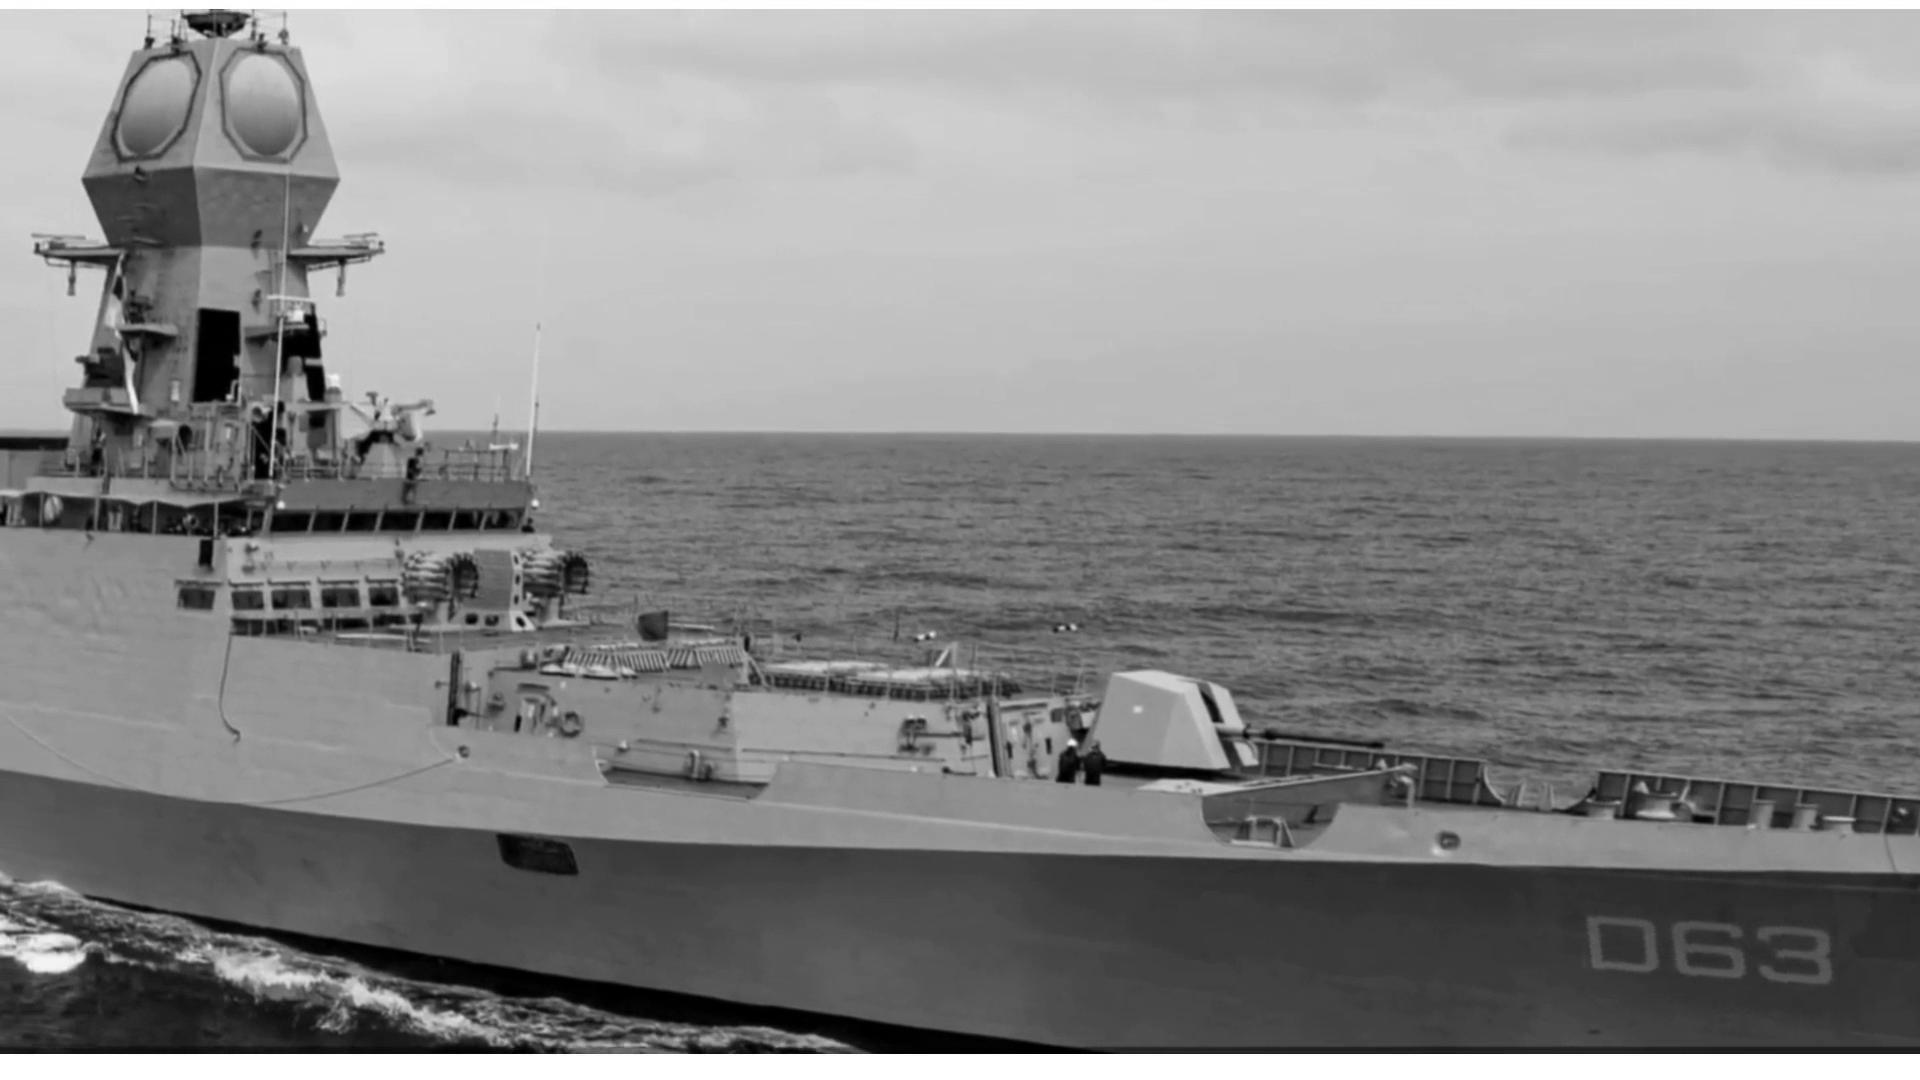OCR: (1573, 904, 1838, 998)
